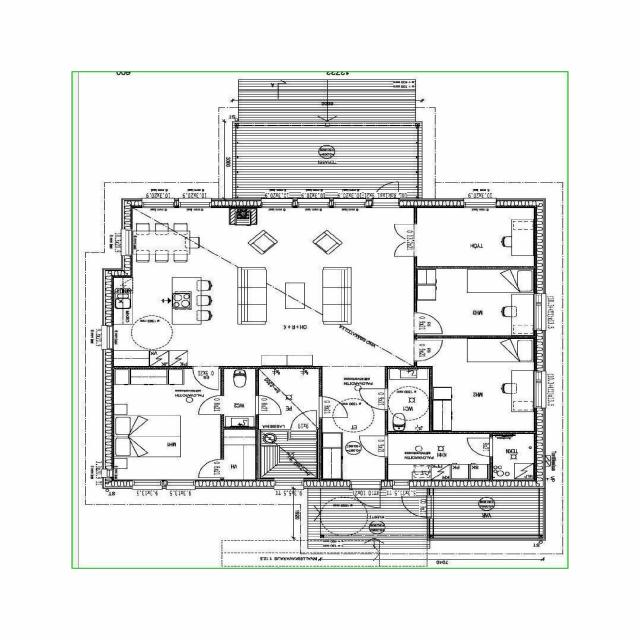door: (351, 479, 380, 512), (373, 178, 398, 208), (400, 496, 433, 518), (359, 388, 388, 409), (290, 408, 316, 431), (414, 312, 442, 333), (414, 340, 442, 361), (319, 397, 347, 418), (359, 436, 388, 456), (193, 366, 218, 389), (255, 396, 281, 414), (198, 460, 224, 478), (198, 396, 224, 414), (467, 438, 493, 456)
